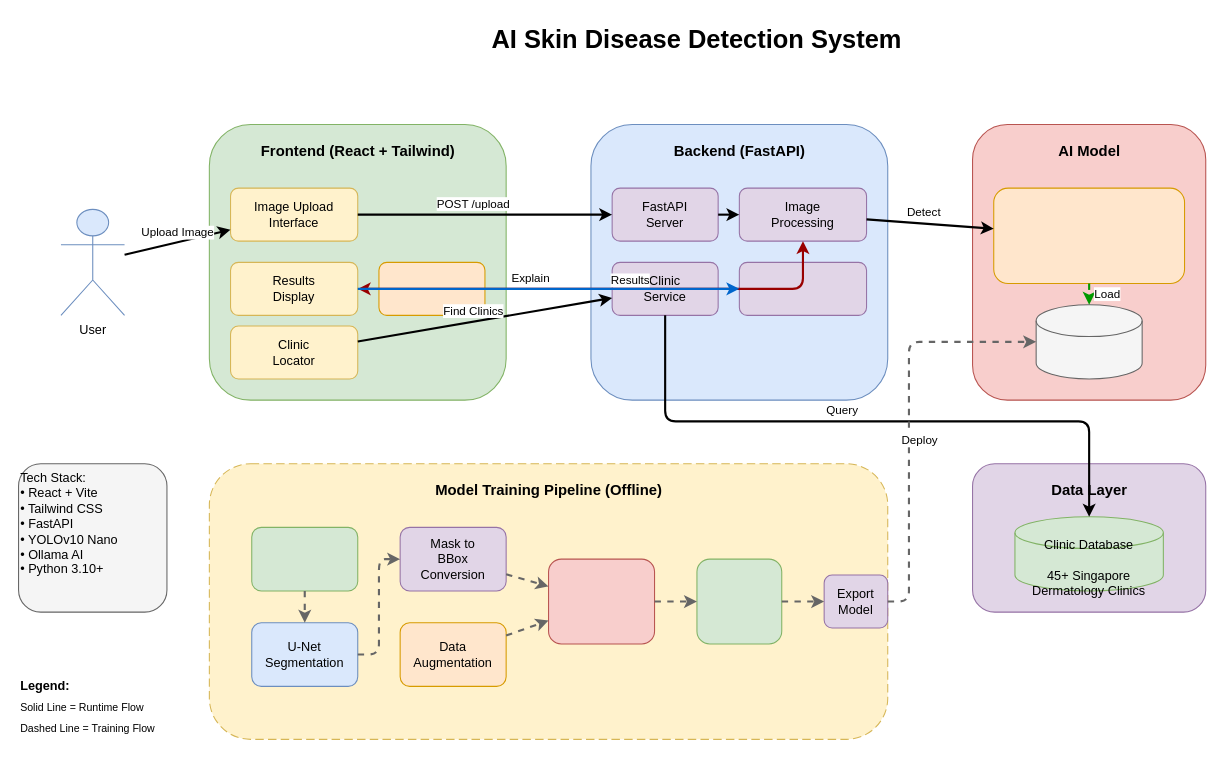
This 1224x758 diagram has some shape labels left out. The shapes that lost their labels are listed below. From the top down, each one's centre as x and y in pixels, then its label:
At point 1089,235: "YOLOv10 Nano • 400 Epochs • 7 Classes • Bounding Boxes".
At point 431,288: "Medical Disclaimer".
At point 802,288: "Ollama AI Assistant".
At point 1088,341: "Model Weights (.pt file)".
At point 304,558: "Skin Lesion Dataset".
At point 601,601: "YOLOv10 Training 400 Epochs".
At point 739,601: "Validation & Testing".
